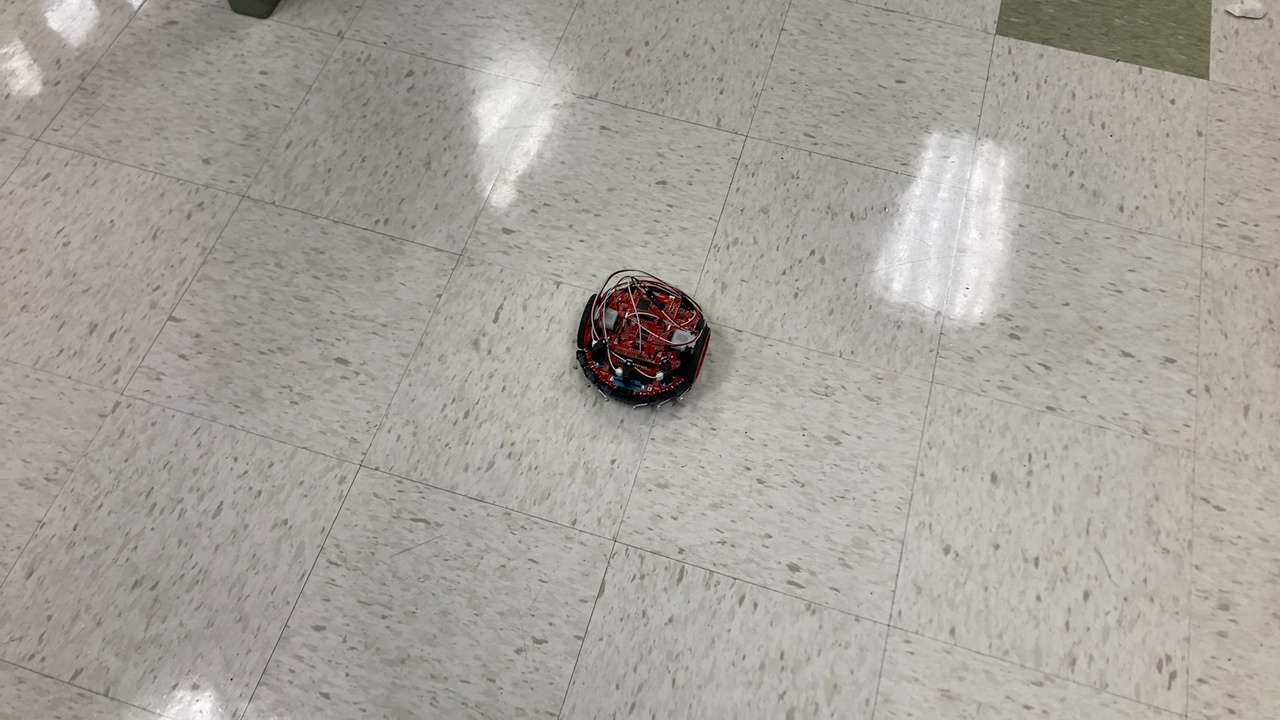robot: (567, 265, 716, 415)
